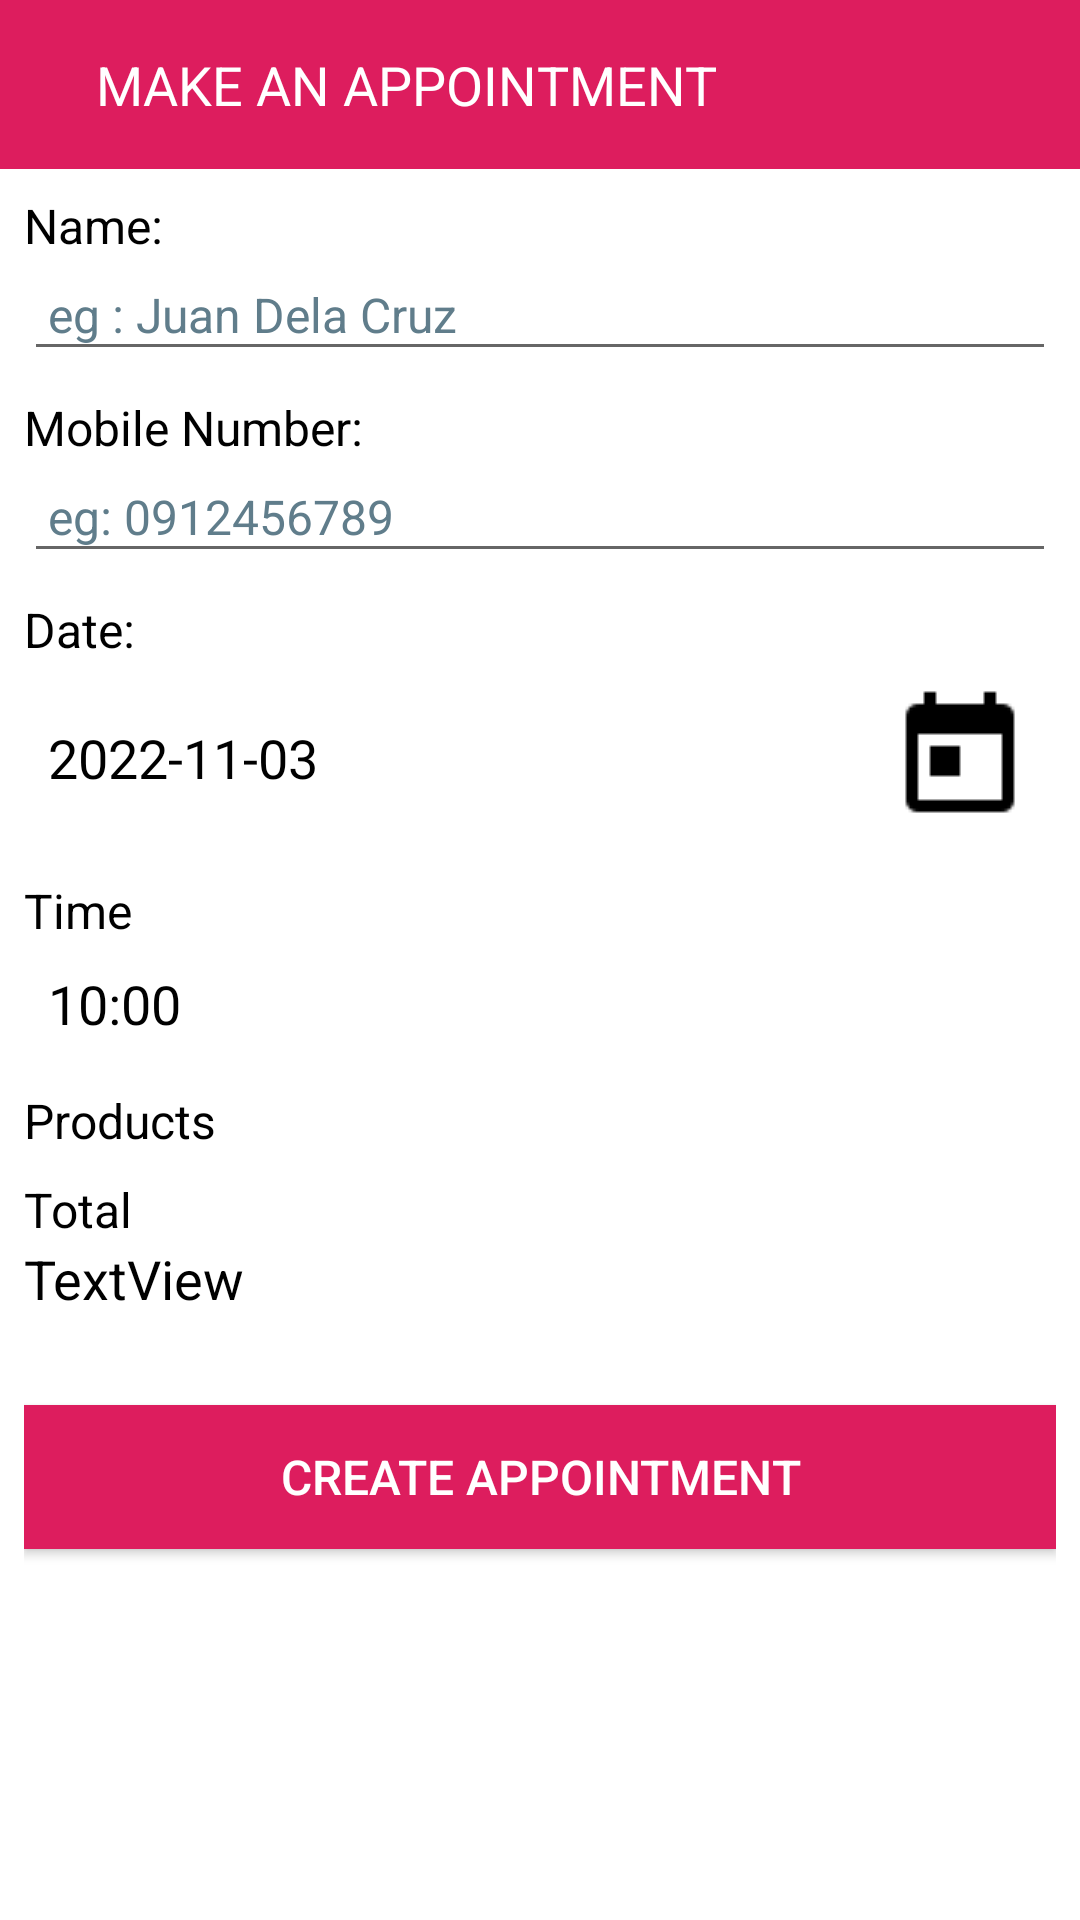

Icons on this 1080x1920 Android screen, each with its box as (x1, y1, x2, y2):
today: (905, 691, 1015, 813)
